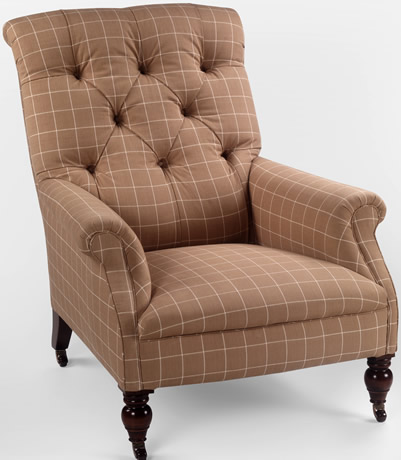chairs: (2, 3, 401, 460)
